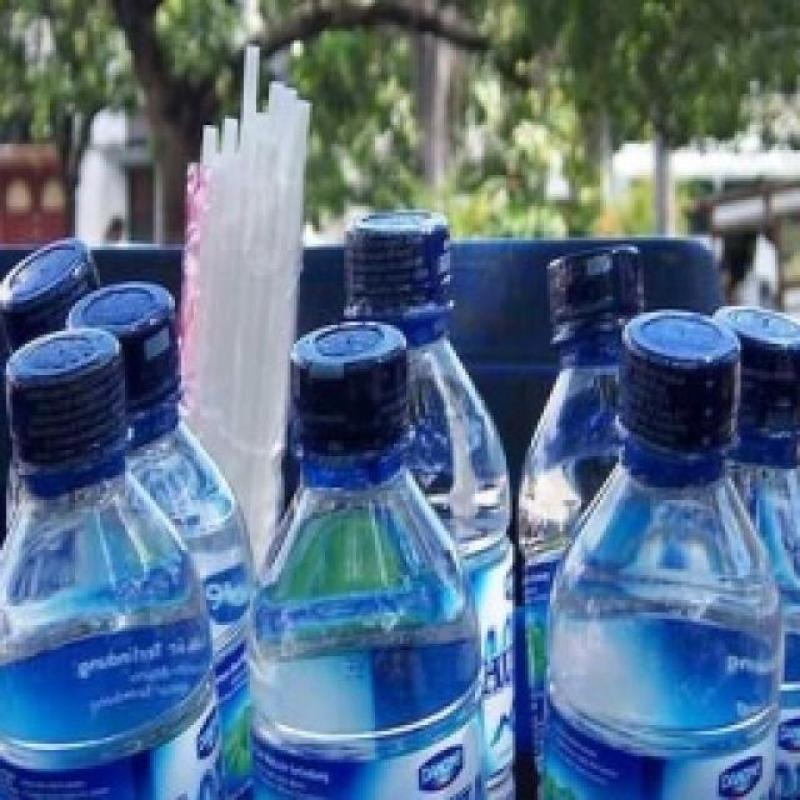botella: (244, 321, 494, 800), (548, 309, 782, 800), (0, 331, 225, 800), (342, 208, 518, 798), (67, 282, 252, 712), (514, 247, 648, 797), (715, 302, 800, 800), (0, 239, 100, 346)
